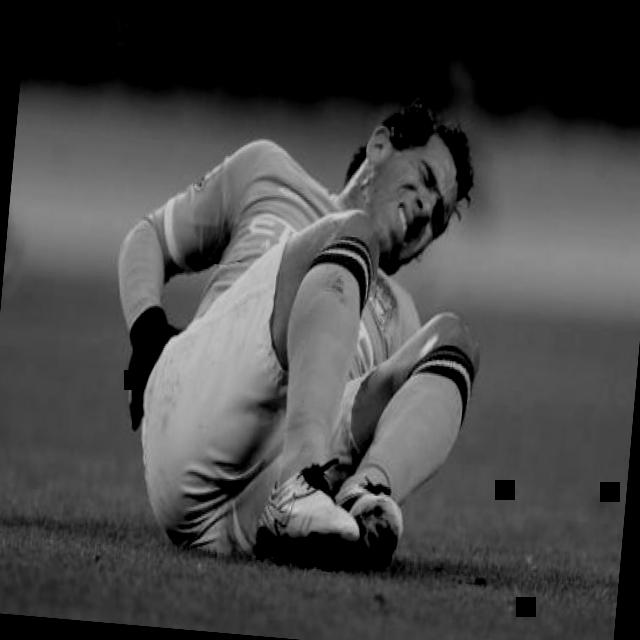Fall-Detected: (79, 45, 495, 598)
